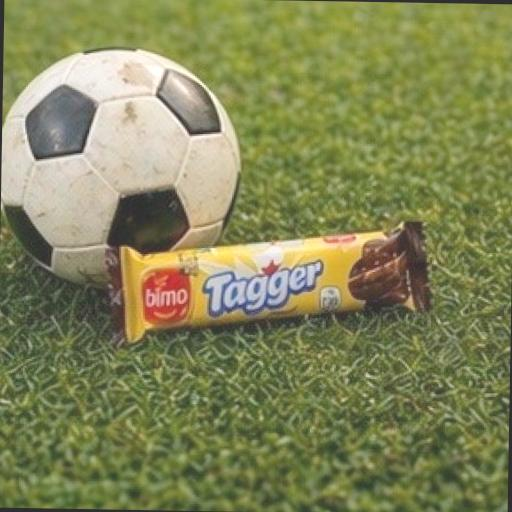tagger: (97, 207, 461, 389)
